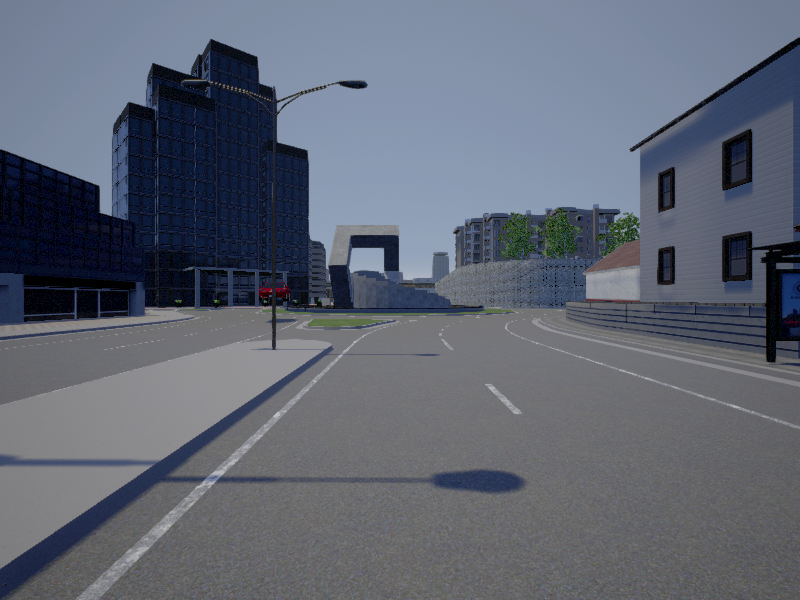Attacker: (258, 280, 290, 303)
